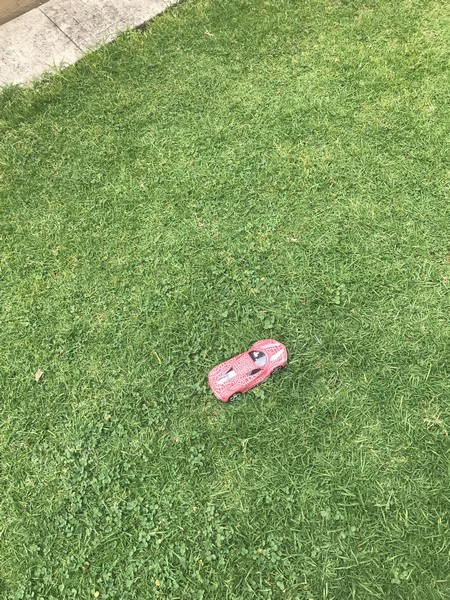RC: (206, 336, 290, 406)
